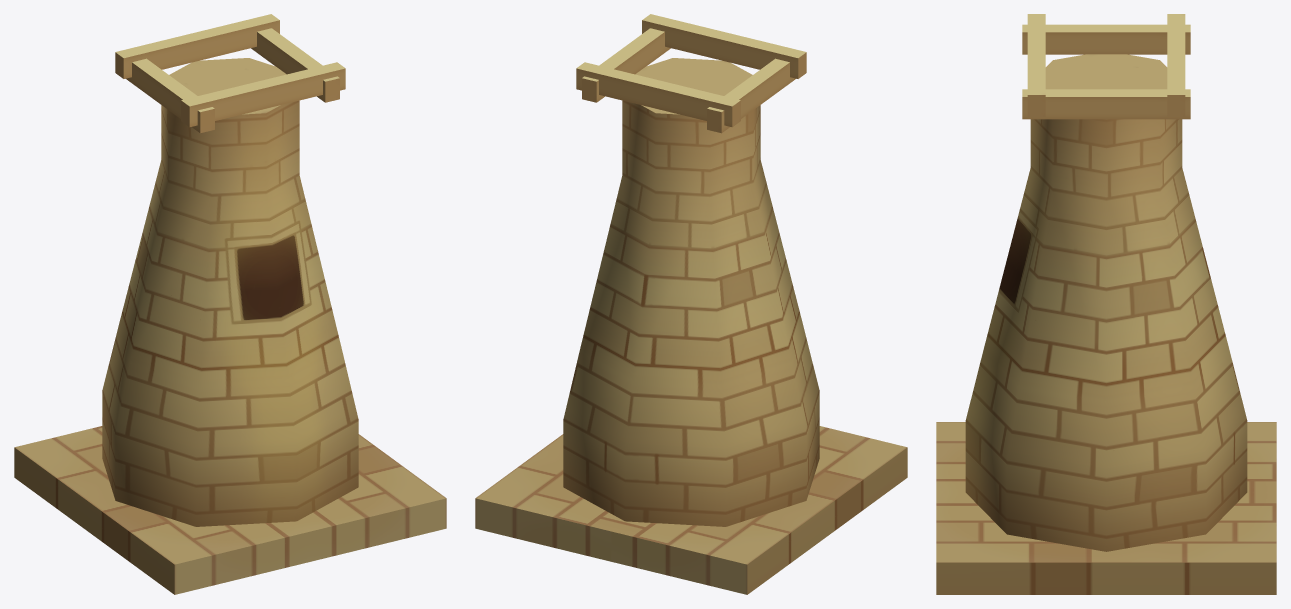
Rendered from Landmark_Royal_Tombs.fbx.
The picture shows the model from 3 angles, left to right: view 1: azimuth 30°, elevation 25°; view 2: azimuth 150°, elevation 25°; view 3: azimuth 270°, elevation 25°; orthographic projection. The views are drawn at different scales.
Parts seen in each view (by area): view 1: Landmark_Royal_Tombs; view 2: Landmark_Royal_Tombs; view 3: Landmark_Royal_Tombs.
Boxes of the visible parts, x1=… form: Landmark_Royal_Tombs: x1=14, y1=14, x2=446, y2=594; Landmark_Royal_Tombs: x1=475, y1=14, x2=907, y2=594; Landmark_Royal_Tombs: x1=936, y1=14, x2=1276, y2=594.
Size of the model in its own units: 616 by 958 by 629.
